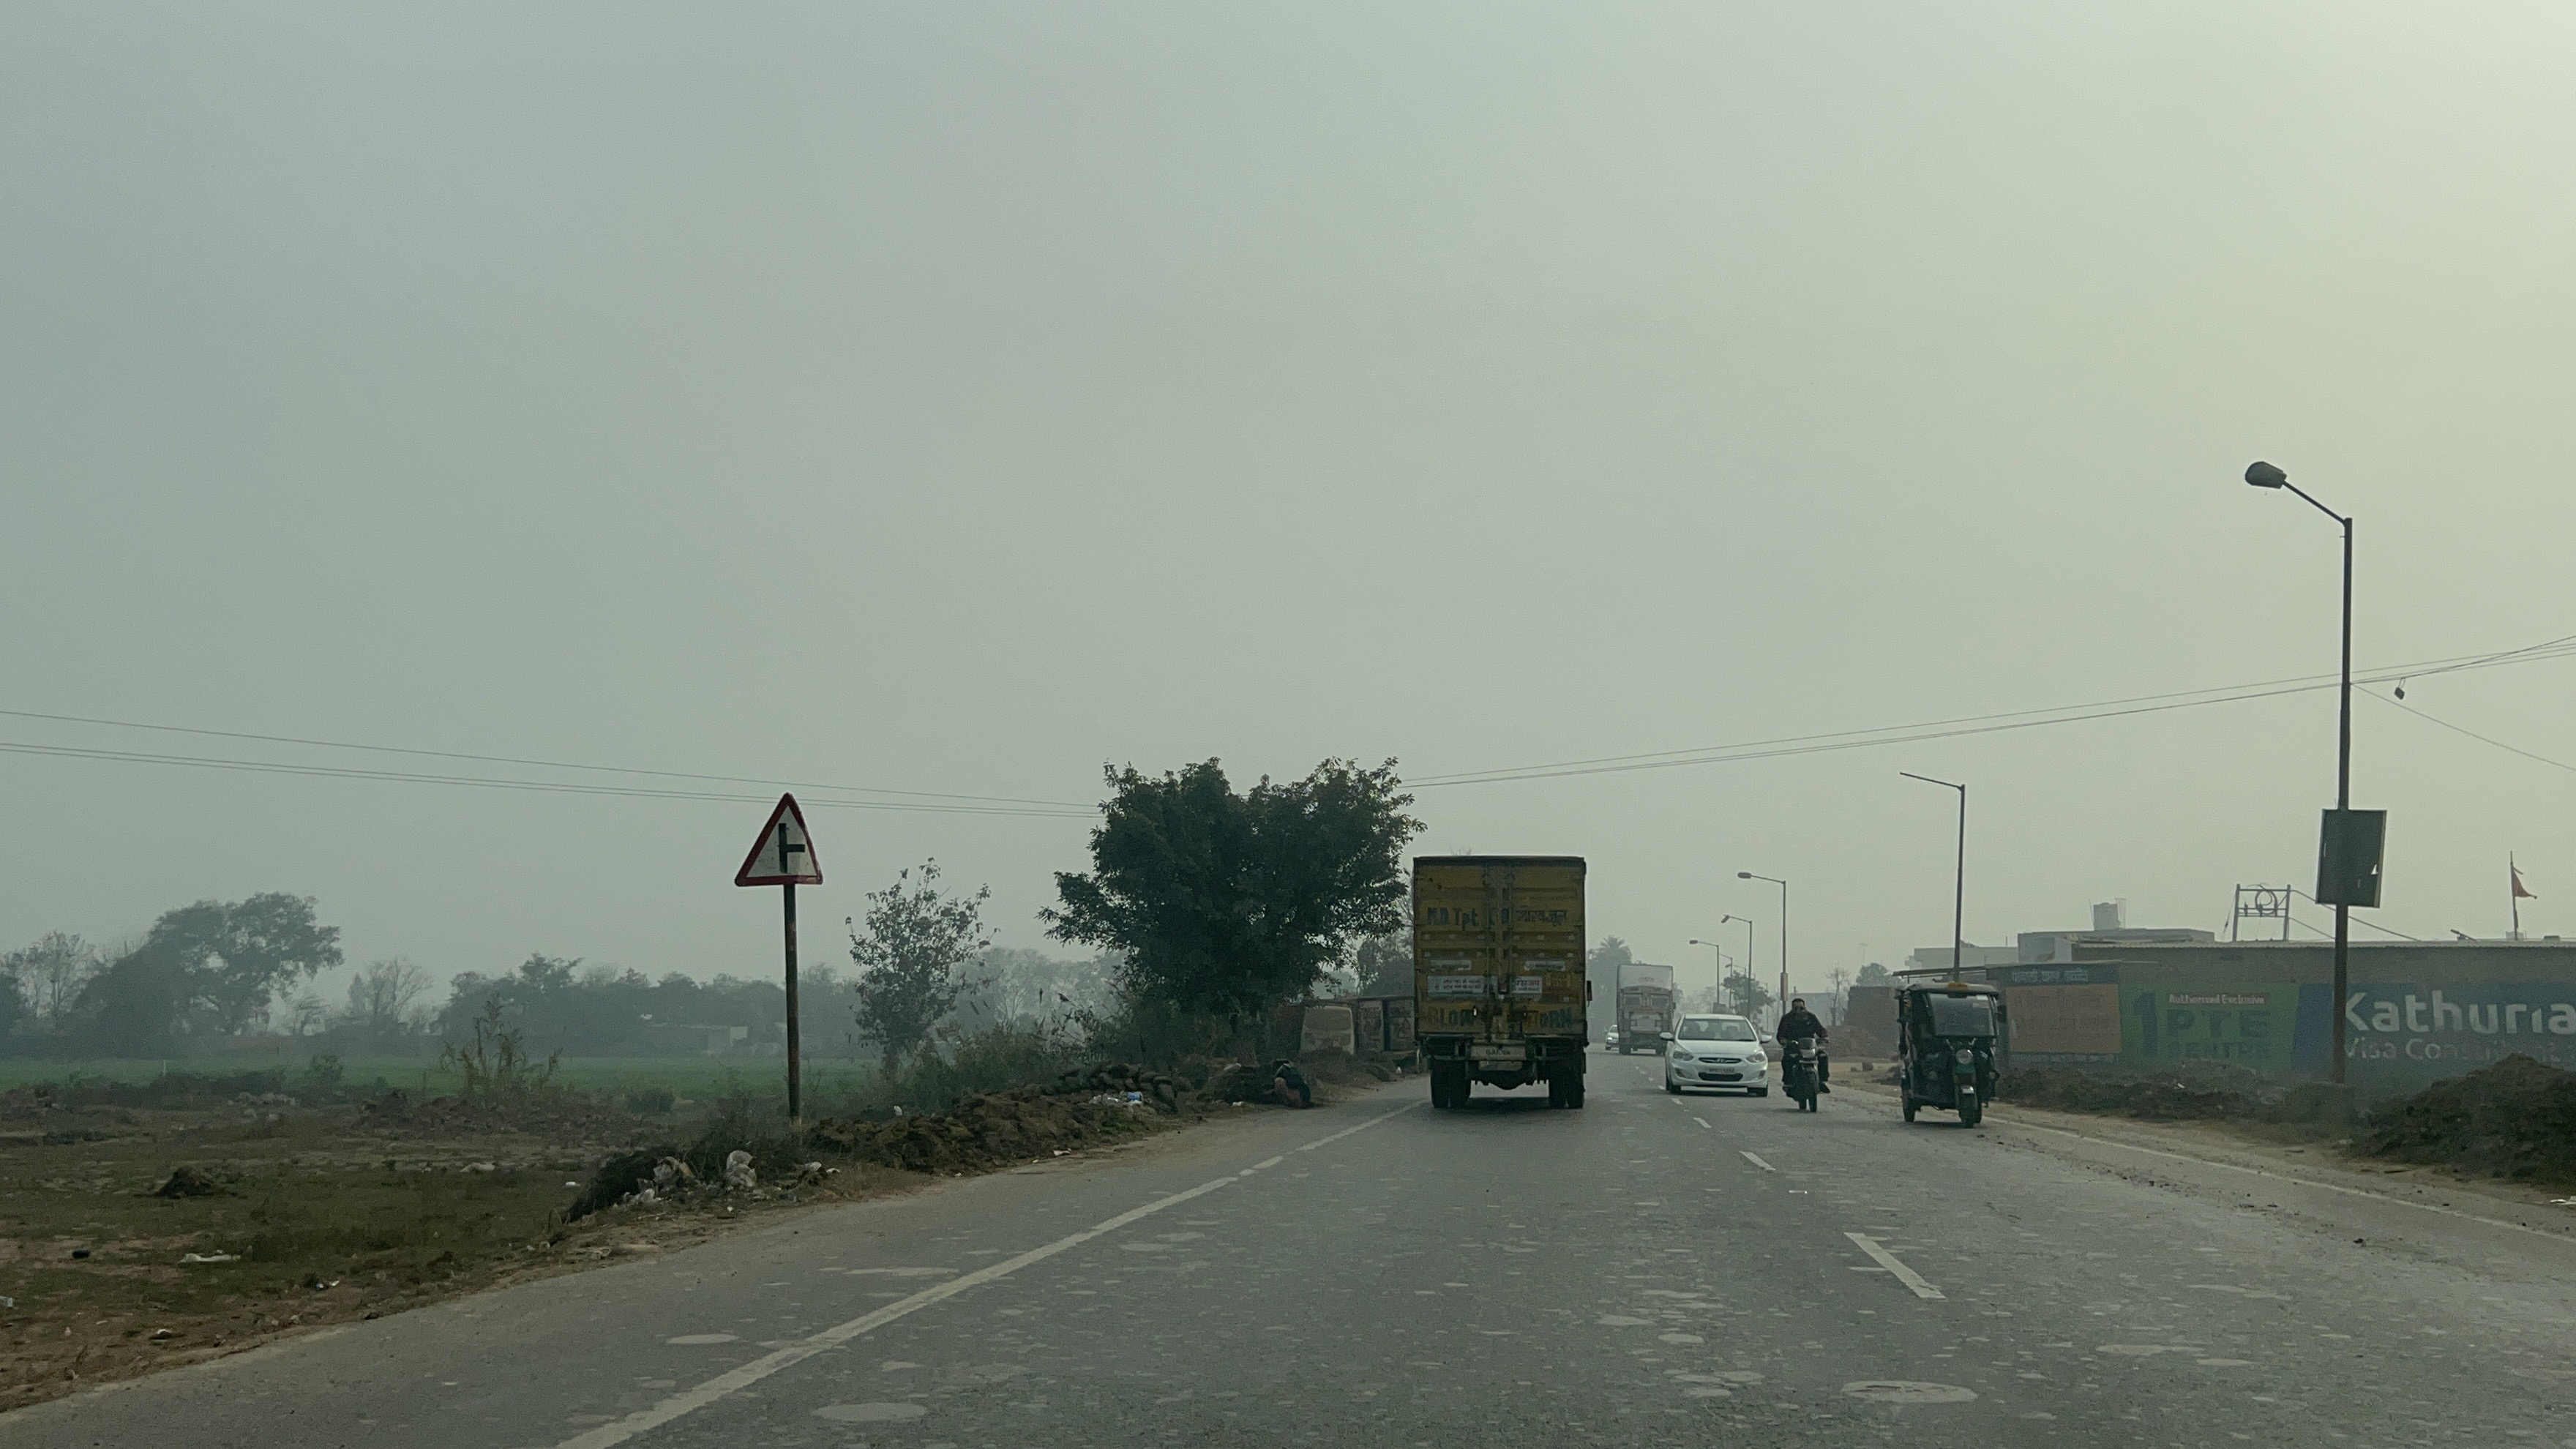Warning: (708, 782, 851, 904)
